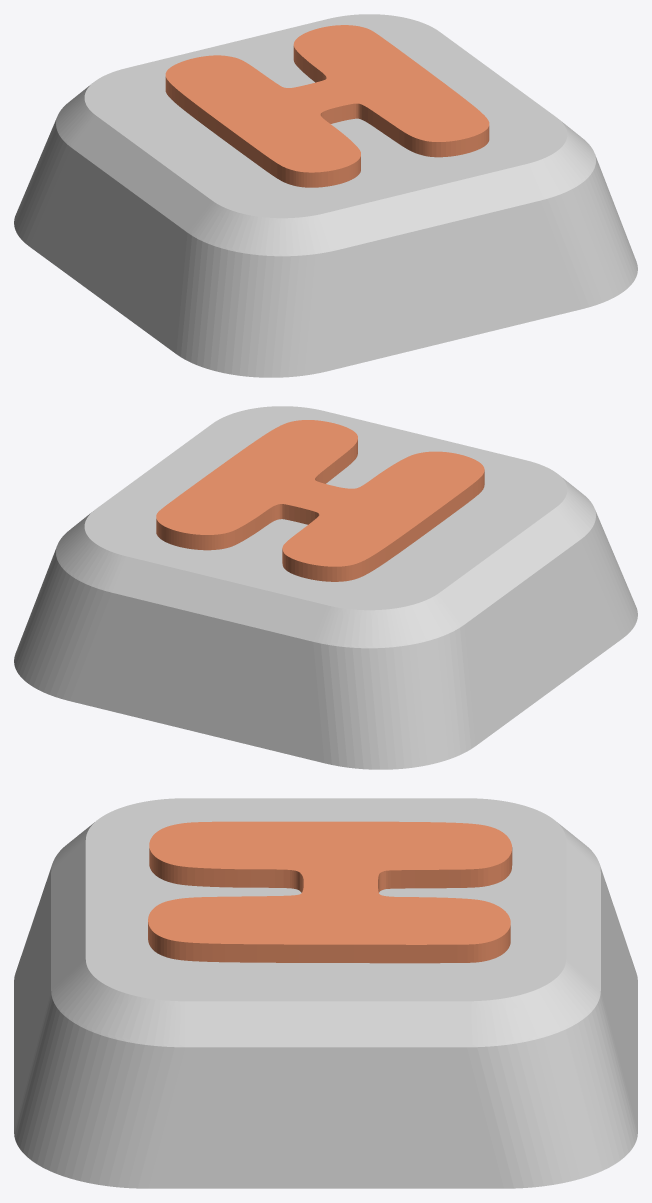
Rendered from cap-H.glb.
3 renders of one model, top to bottom at view 1: azimuth 30°, elevation 25°; view 2: azimuth 150°, elevation 25°; view 3: azimuth 270°, elevation 25°, orthographic. The views are drawn at different scales.
Visible parts, largest first — view 1: cap_0, glyph_1; view 2: cap_0, glyph_1; view 3: cap_0, glyph_1.
Part boxes in pixels (x1=…): cap_0: x1=14, y1=14, x2=637, y2=377; glyph_1: x1=165, y1=25, x2=489, y2=187; cap_0: x1=14, y1=406, x2=637, y2=769; glyph_1: x1=156, y1=420, x2=484, y2=581; cap_0: x1=14, y1=798, x2=637, y2=1188; glyph_1: x1=148, y1=821, x2=512, y2=963.
Bounding box in the file's own units: 18 × 5.59 × 18.
